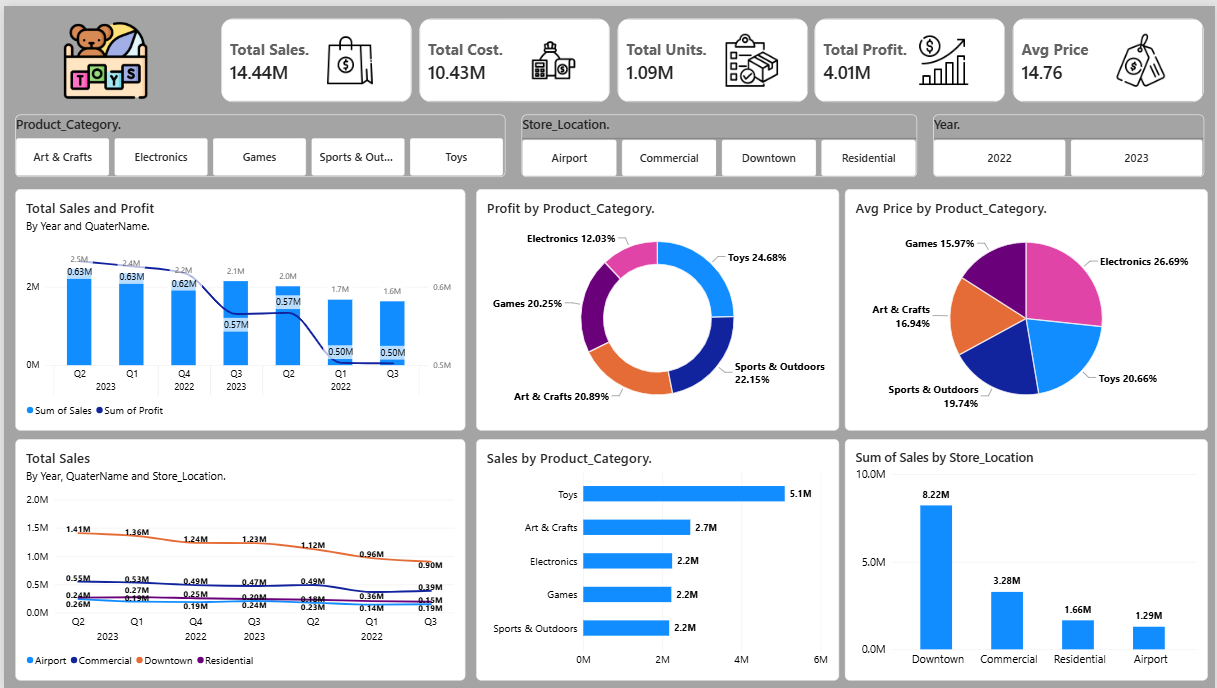

This screenshot's page, from the dashboard's own definition file:
{"tool":"powerbi","page":{"name":"Page 1","canvas":[1920,1080],"ordinal":0},"visuals":[{"type":"cardVisual","fields":{"Data":["Sum(sales.Sales)"]},"box":[345,19.7,302,132],"z":0},{"type":"cardVisual","fields":{"Data":["Sum(sales.Profit)"]},"box":[1284.4,19.7,302,132],"z":1000},{"type":"cardVisual","fields":{"Data":["Sum(sales.Units)"]},"box":[971.2,19.7,302,132],"z":2000},{"type":"cardVisual","fields":{"Data":["Sum(sales.Cost)"]},"box":[658.1,19.7,302,132],"z":3000},{"type":"lineStackedColumnComboChart","title":"Total Sales and Profit","fields":{"Y":["Sum(sales.Sales)"],"Y2":["Sum(sales.Profit)"],"Category":["Date_Table.Date Hierarchy.Year","Date_Table.Date Hierarchy.QuaterName"]},"box":[17.5,290.3,712.5,382.5],"z":4000},{"type":"lineChart","title":"Total Sales","fields":{"Category":["Date_Table.Date Hierarchy.Year","Date_Table.Date Hierarchy.QuaterName"],"Series":["stores.Store_Location"],"Y":["Sum(sales.Sales)"]},"box":[17.5,685.3,712.5,382.5],"z":5000},{"type":"donutChart","title":"Profit by Product_Category.","fields":{"Category":["products.Product_Category"],"Y":["Sum(products.Profit Per Product)"]},"box":[747.5,290.3,575,382.5],"z":6000},{"type":"clusteredBarChart","title":"Sales by Product_Category.","fields":{"Category":["products.Product_Category"],"Y":["Sum(sales.Sales)"]},"box":[747.5,685.3,575,382.5],"z":7000},{"type":"cardVisual","fields":{"Data":["all measures.Avg Price"]},"box":[1597.5,19.4,302.5,132.5],"z":8000},{"type":"pieChart","title":"Avg Price by Product_Category.","fields":{"Y":["all measures.Avg Price"],"Category":["products.Product_Category"]},"box":[1332.5,290.3,575,382.5],"z":9000},{"type":"lineClusteredColumnComboChart","fields":{"Category":["stores.Store_Location"],"Y":["Sum(sales.Sales)"]},"box":[1332.5,685.3,575,382.5],"z":10000},{"type":"advancedSlicerVisual","title":"Store_Location.","fields":{"Values":["stores.Store_Location"]},"box":[819.4,172.3,626.9,99],"z":11000},{"type":"advancedSlicerVisual","title":"Product_Category.","fields":{"Values":["products.Product_Category"]},"box":[17.6,172.3,776.5,99],"z":12000},{"type":"advancedSlicerVisual","title":"Year.","fields":{"Values":["Date_Table.Date Hierarchy.Year"]},"box":[1471.6,172.3,428.9,99],"z":13000},{"type":"image","box":[494.9,44,105.6,83.6],"z":13001},{"type":"image","box":[1748.8,44,105.6,83.6],"z":13002},{"type":"image","box":[1436.4,44,105.6,83.6],"z":13003},{"type":"image","box":[1132.8,44,105.6,83.6],"z":13004},{"type":"image","box":[818.3,44,105.6,83.6],"z":13005},{"type":"image","box":[17.6,19.8,286,132],"z":13006}]}

Visuals, with their boxes in screenshot pixels (x1, y1, x2, y2), scaled from the page's 1920x1080 canvas onto the 1217x688 screenshot:
cardVisual - Sum(sales.Sales): Rect(219, 13, 410, 97)
cardVisual - Sum(sales.Profit): Rect(814, 13, 1006, 97)
cardVisual - Sum(sales.Units): Rect(616, 13, 807, 97)
cardVisual - Sum(sales.Cost): Rect(417, 13, 609, 97)
"Total Sales and Profit" lineStackedColumnComboChart: Rect(11, 185, 463, 429)
"Total Sales" lineChart: Rect(11, 437, 463, 680)
"Profit by Product_Category." donutChart: Rect(474, 185, 838, 429)
"Sales by Product_Category." clusteredBarChart: Rect(474, 437, 838, 680)
cardVisual - all measures.Avg Price: Rect(1013, 12, 1204, 97)
"Avg Price by Product_Category." pieChart: Rect(845, 185, 1209, 429)
lineClusteredColumnComboChart - stores.Store_Location x Sum(sales.Sales): Rect(845, 437, 1209, 680)
"Store_Location." advancedSlicerVisual: Rect(519, 110, 917, 173)
"Product_Category." advancedSlicerVisual: Rect(11, 110, 503, 173)
"Year." advancedSlicerVisual: Rect(933, 110, 1205, 173)
image: Rect(314, 28, 381, 81)
image: Rect(1108, 28, 1175, 81)
image: Rect(910, 28, 977, 81)
image: Rect(718, 28, 785, 81)
image: Rect(519, 28, 586, 81)
image: Rect(11, 13, 192, 97)
